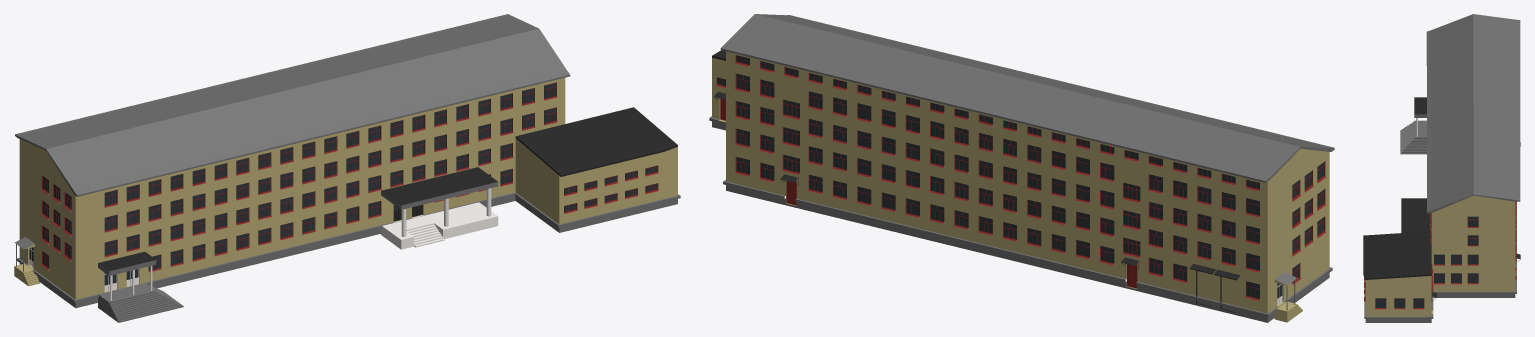
File: LaboraK.gltf
3 renders of one model, left to right at view 1: azimuth 30°, elevation 25°; view 2: azimuth 150°, elevation 25°; view 3: azimuth 270°, elevation 25°, orthographic. The views are drawn at different scales.
Parts seen in each view (by area): view 1: ЛК, ЛК_кровля, ЛК_Окно_2х3, ЛК_кровля.001, ЛК_крыльцо, ЛК_крыльцо.001, ЛК_Окно_2х3.002, ЛК_Окно_2х3.017, ЛК_Окно_2х3.003, ЛК_крыльцо.002; view 2: ЛК, ЛК_кровля, ЛК_Окно_2х3.010, ЛК_Окно_2х3.011, ЛК_Окно_2х3.007, ЛК_Окно_2х3.014, ЛК_Окно_2х3.005, ЛК_Окно_2х3.003, ЛК_Окно_2х3.013, ЛК_Окно_2х3.012, ЛК_крыльцо.002, ЛК_Окно_2х3.006 (+1 smaller); view 3: ЛК_кровля, ЛК, ЛК_кровля.001, ЛК_крыльцо.001, ЛК_крыльцо, ЛК_Окно_2х3.016, ЛК_Окно_2х3.015, ЛК_Окно_2х3.020.
Part boxes in pixels (box(x1,y1,x2,y2)): ЛК: box(17, 78, 680, 308); ЛК_кровля: box(15, 14, 570, 196); ЛК_Окно_2х3: box(104, 82, 557, 257); ЛК_кровля.001: box(515, 107, 677, 176); ЛК_крыльцо: box(381, 167, 498, 249); ЛК_крыльцо.001: box(98, 251, 183, 322); ЛК_Окно_2х3.002: box(148, 201, 381, 272); ЛК_Окно_2х3.017: box(564, 165, 658, 214); ЛК_Окно_2х3.003: box(40, 175, 71, 261); ЛК_крыльцо.002: box(14, 237, 39, 286); ЛК: box(709, 51, 1332, 322); ЛК_кровля: box(720, 14, 1334, 182); ЛК_Окно_2х3.010: box(808, 91, 1114, 237); ЛК_Окно_2х3.011: box(1148, 174, 1259, 272); ЛК_Окно_2х3.007: box(808, 174, 1114, 265); ЛК_Окно_2х3.014: box(735, 55, 1259, 191); ЛК_Окно_2х3.005: box(735, 73, 774, 154); ЛК_Окно_2х3.003: box(1292, 162, 1326, 256); ЛК_Окно_2х3.013: box(1122, 182, 1140, 258); ЛК_Окно_2х3.012: box(782, 99, 799, 175); ЛК_крыльцо.002: box(1274, 272, 1302, 322); ЛК_Окно_2х3.006: box(735, 157, 774, 182); ЛК_кровля: box(1426, 14, 1520, 213); ЛК: box(1364, 195, 1516, 322); ЛК_кровля.001: box(1363, 231, 1431, 279); ЛК_крыльцо.001: box(1400, 97, 1426, 154); ЛК_крыльцо: box(1401, 198, 1430, 232); ЛК_Окно_2х3.016: box(1434, 254, 1478, 284); ЛК_Окно_2х3.015: box(1375, 298, 1424, 309); ЛК_Окно_2х3.020: box(1467, 216, 1478, 246).
Bounding box in the file's own units: 14.1 × 3.4 × 4.49.
